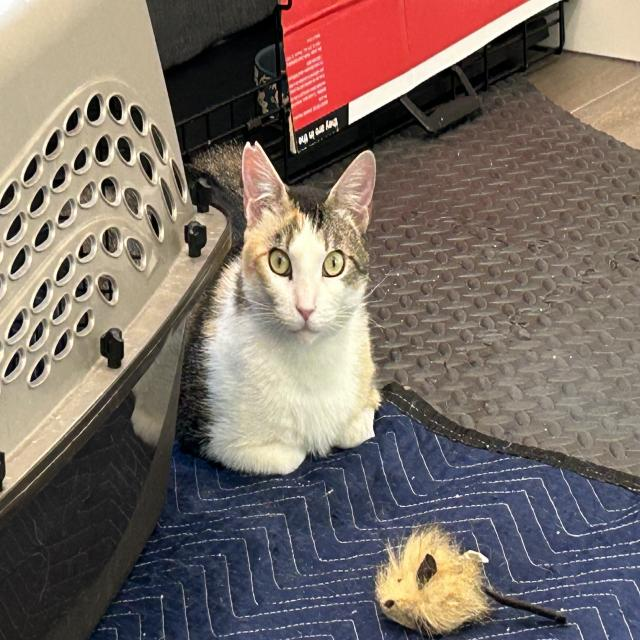domestic_short_hair_cat: (224, 127, 396, 384)
